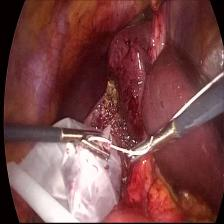Grasper: (126, 120, 174, 172), (59, 121, 112, 163)
Specimen Bag: (4, 140, 123, 222)
